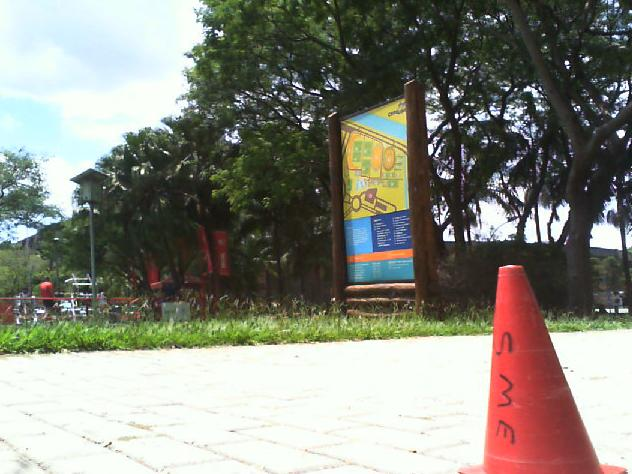0 cone: (458, 264, 628, 474)
